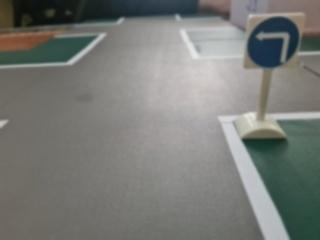left: (244, 11, 303, 71)
